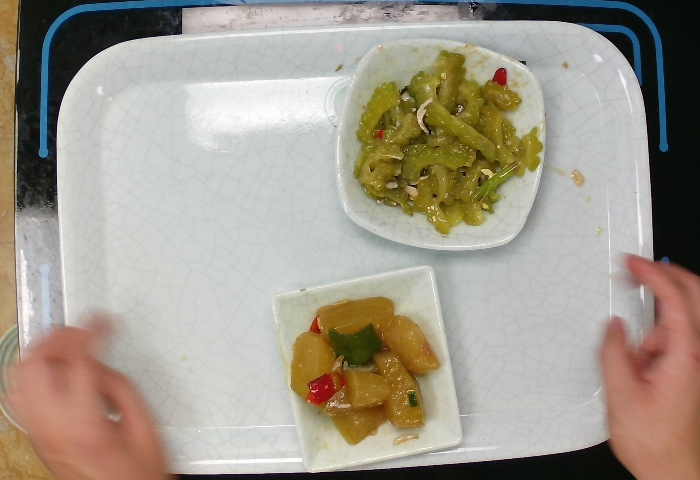WCQzf-Da_Si_Fang_Die: (332, 36, 550, 252)
WCQzf-Ru_Ci_Si_Fang_Die: (264, 264, 461, 475)
